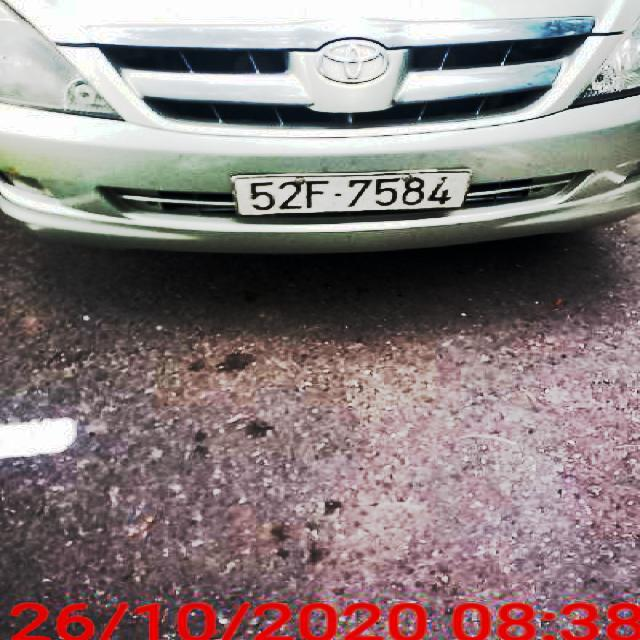license_plate: (237, 171, 472, 216)
